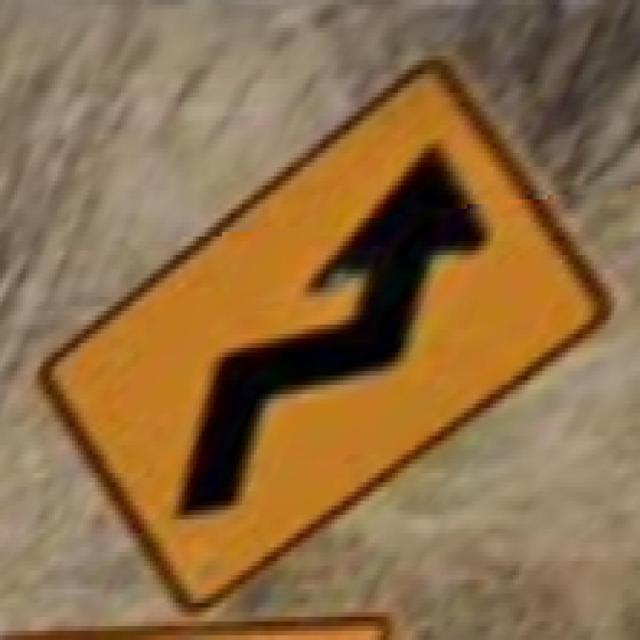Tikungan Ganda Pertama Ke Kanan: (26, 42, 611, 621)
